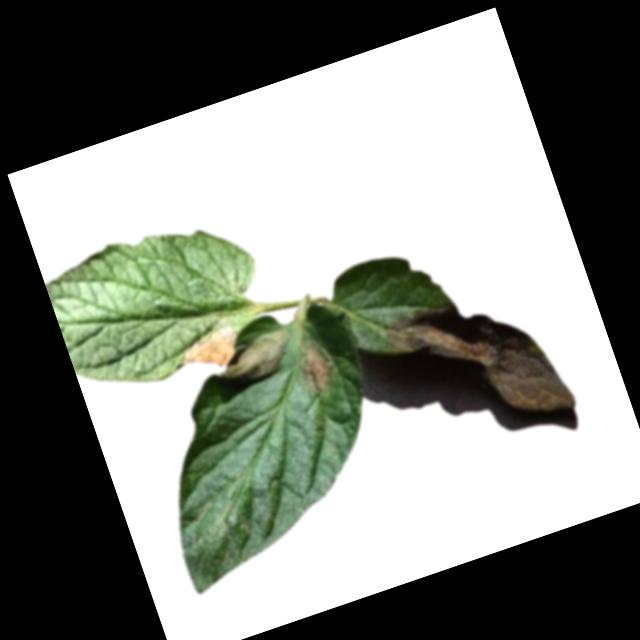Late_blight: (378, 271, 577, 457), (209, 325, 302, 396), (175, 320, 251, 380), (288, 332, 342, 397)
